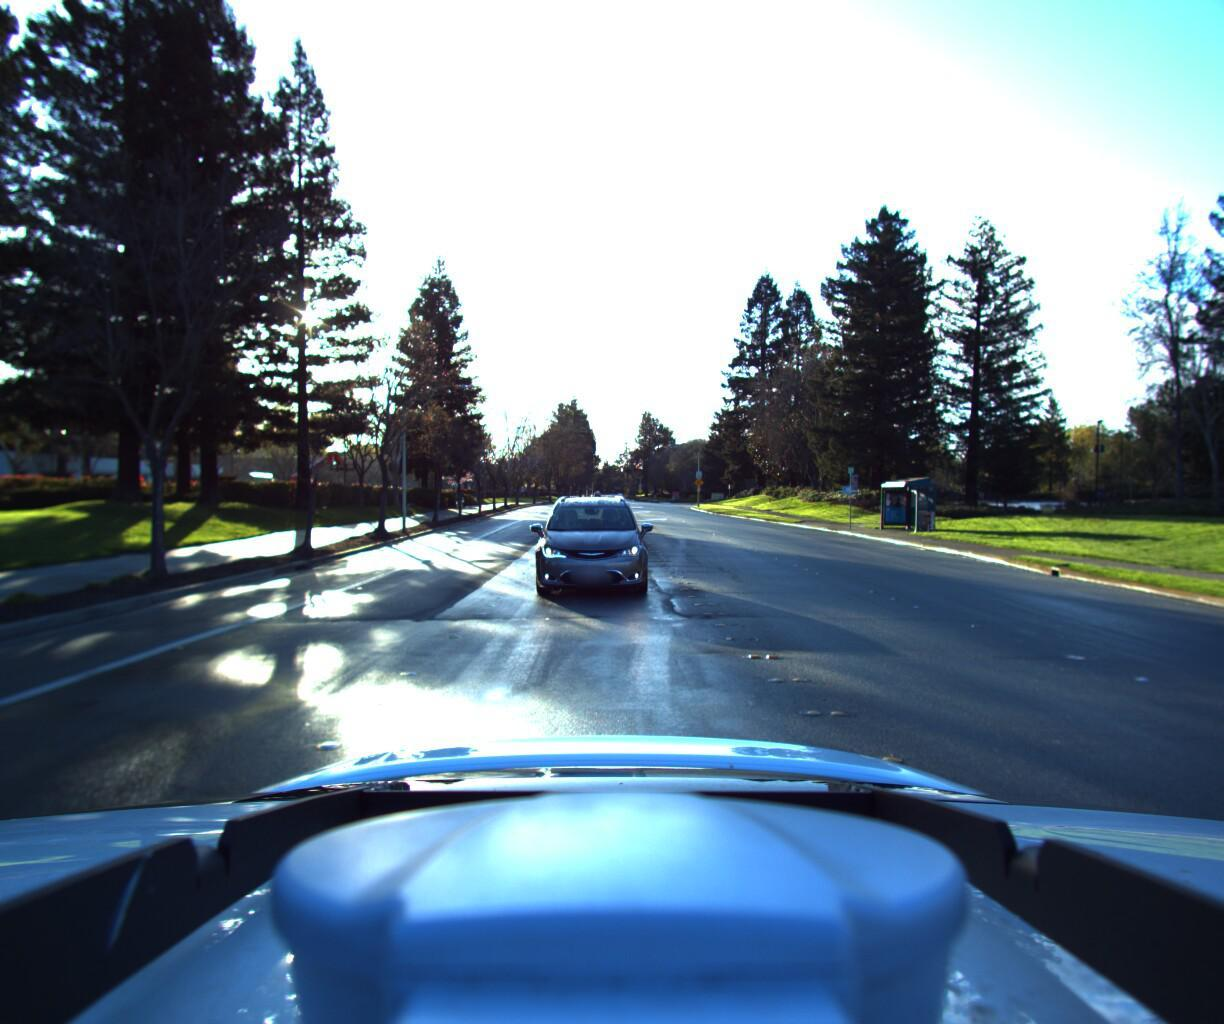car: (530, 490, 648, 600)
other_vehicle: (199, 466, 283, 511)
